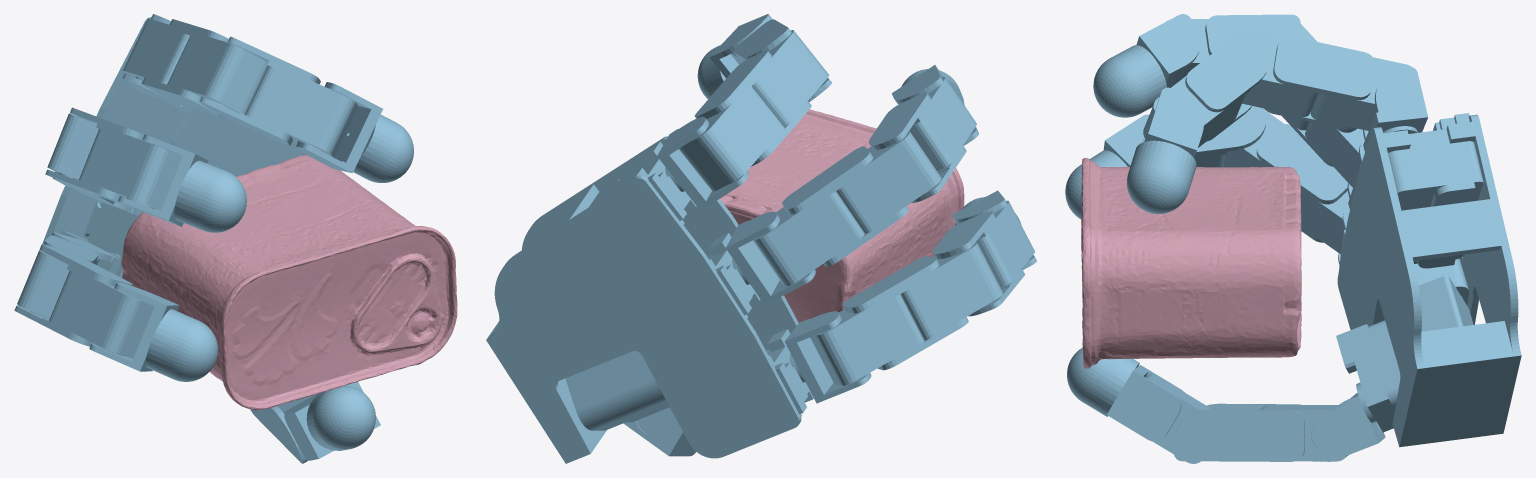
3 views of the same model, side by side, from view 1: azimuth 30°, elevation 25°; view 2: azimuth 150°, elevation 25°; view 3: azimuth 270°, elevation 25° (orthographic).
Visible parts, largest first — view 1: world, potted_meat_can.stl; view 2: world, potted_meat_can.stl; view 3: world, potted_meat_can.stl.
Part boxes in pixels (<box>): world: <box>14,14,413,463</box>; potted_meat_can.stl: <box>121,155,457,409</box>; world: <box>486,14,1036,463</box>; potted_meat_can.stl: <box>720,109,964,322</box>; world: <box>1065,14,1521,463</box>; potted_meat_can.stl: <box>1081,158,1301,368</box>.
Size of the model in its own units: 0.1747 by 0.1711 by 0.1729.
